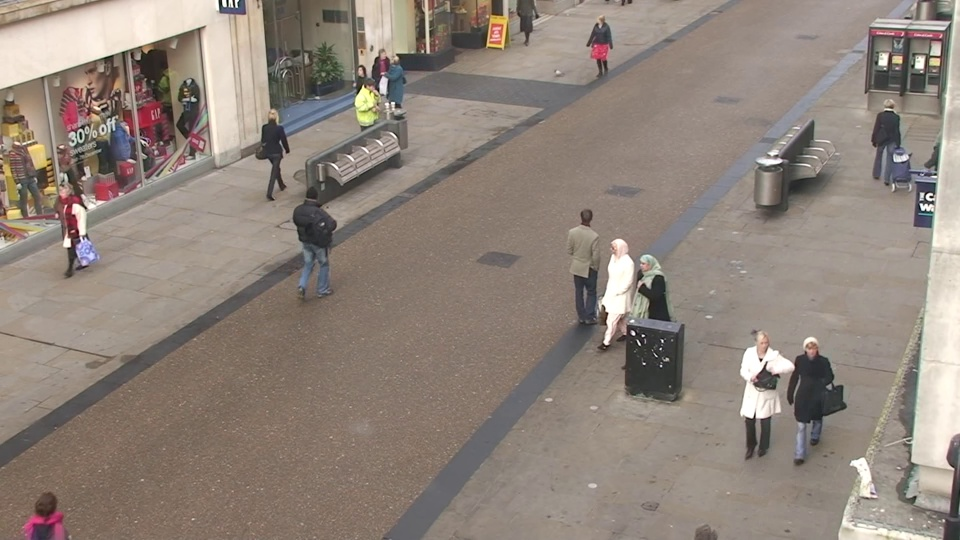pedestrian: (780, 327, 836, 479), (732, 323, 785, 473), (46, 177, 98, 287), (625, 248, 668, 379), (13, 474, 94, 540), (598, 233, 639, 361), (569, 203, 607, 324), (294, 180, 335, 292), (866, 96, 907, 189), (259, 105, 293, 196), (357, 75, 387, 158), (350, 61, 379, 141), (382, 52, 410, 129), (370, 46, 398, 122), (590, 12, 612, 79)
